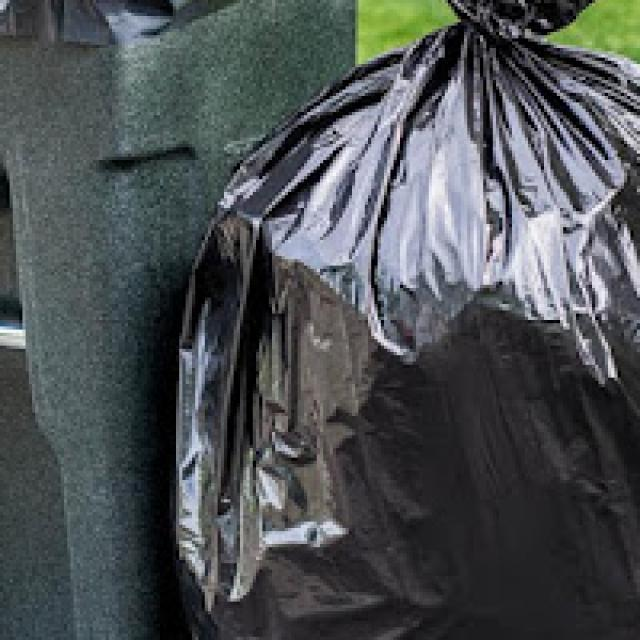Trashbag: (174, 1, 640, 640)
